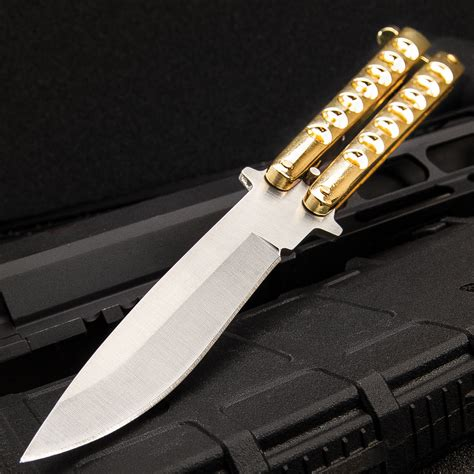knife: (19, 21, 466, 464)
